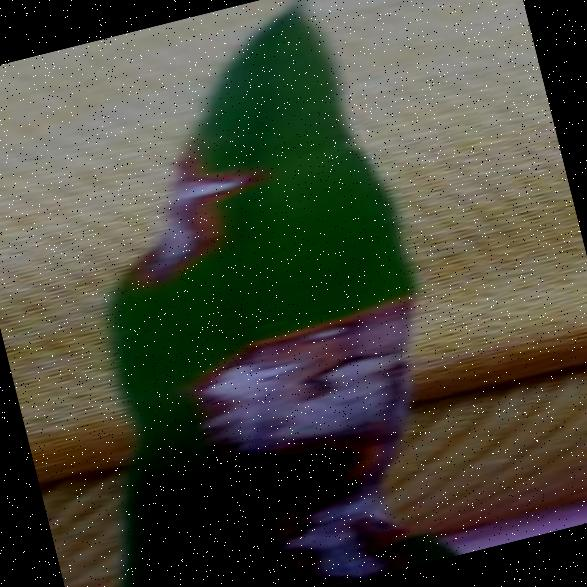Leaf_smut: (156, 274, 452, 492), (79, 137, 296, 309), (255, 457, 430, 587)
